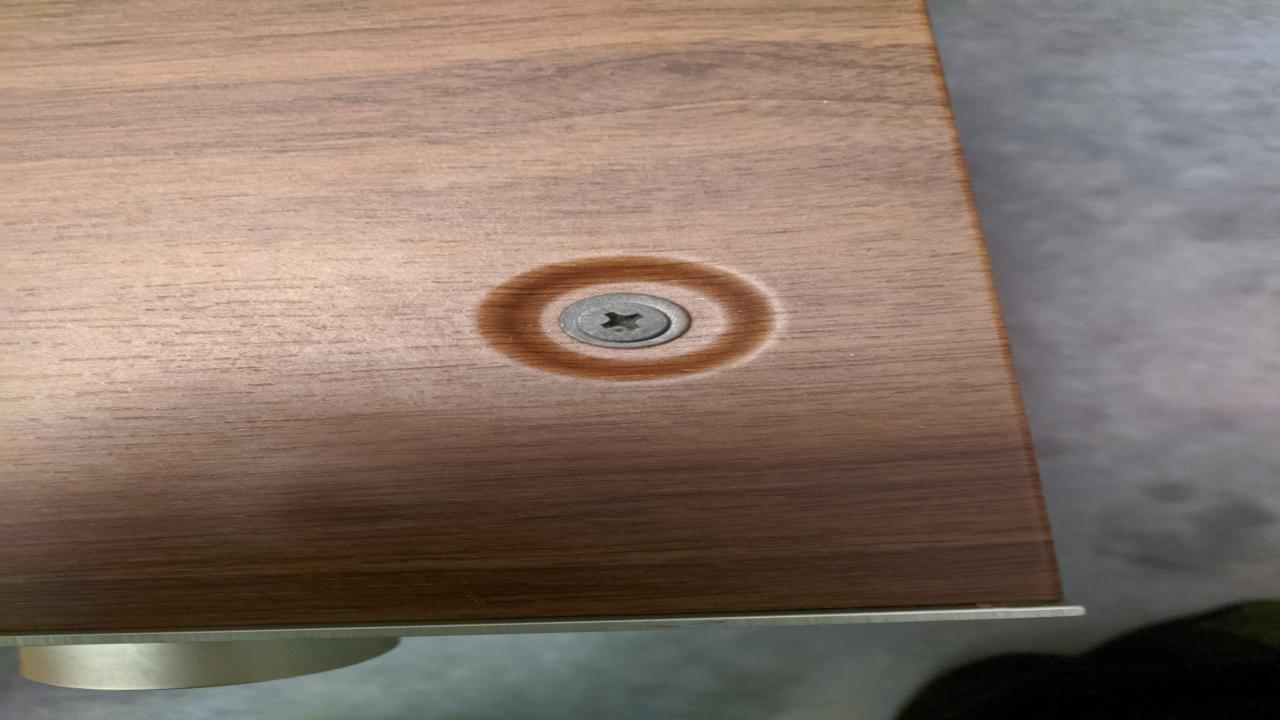CRS: (578, 304, 669, 340)
